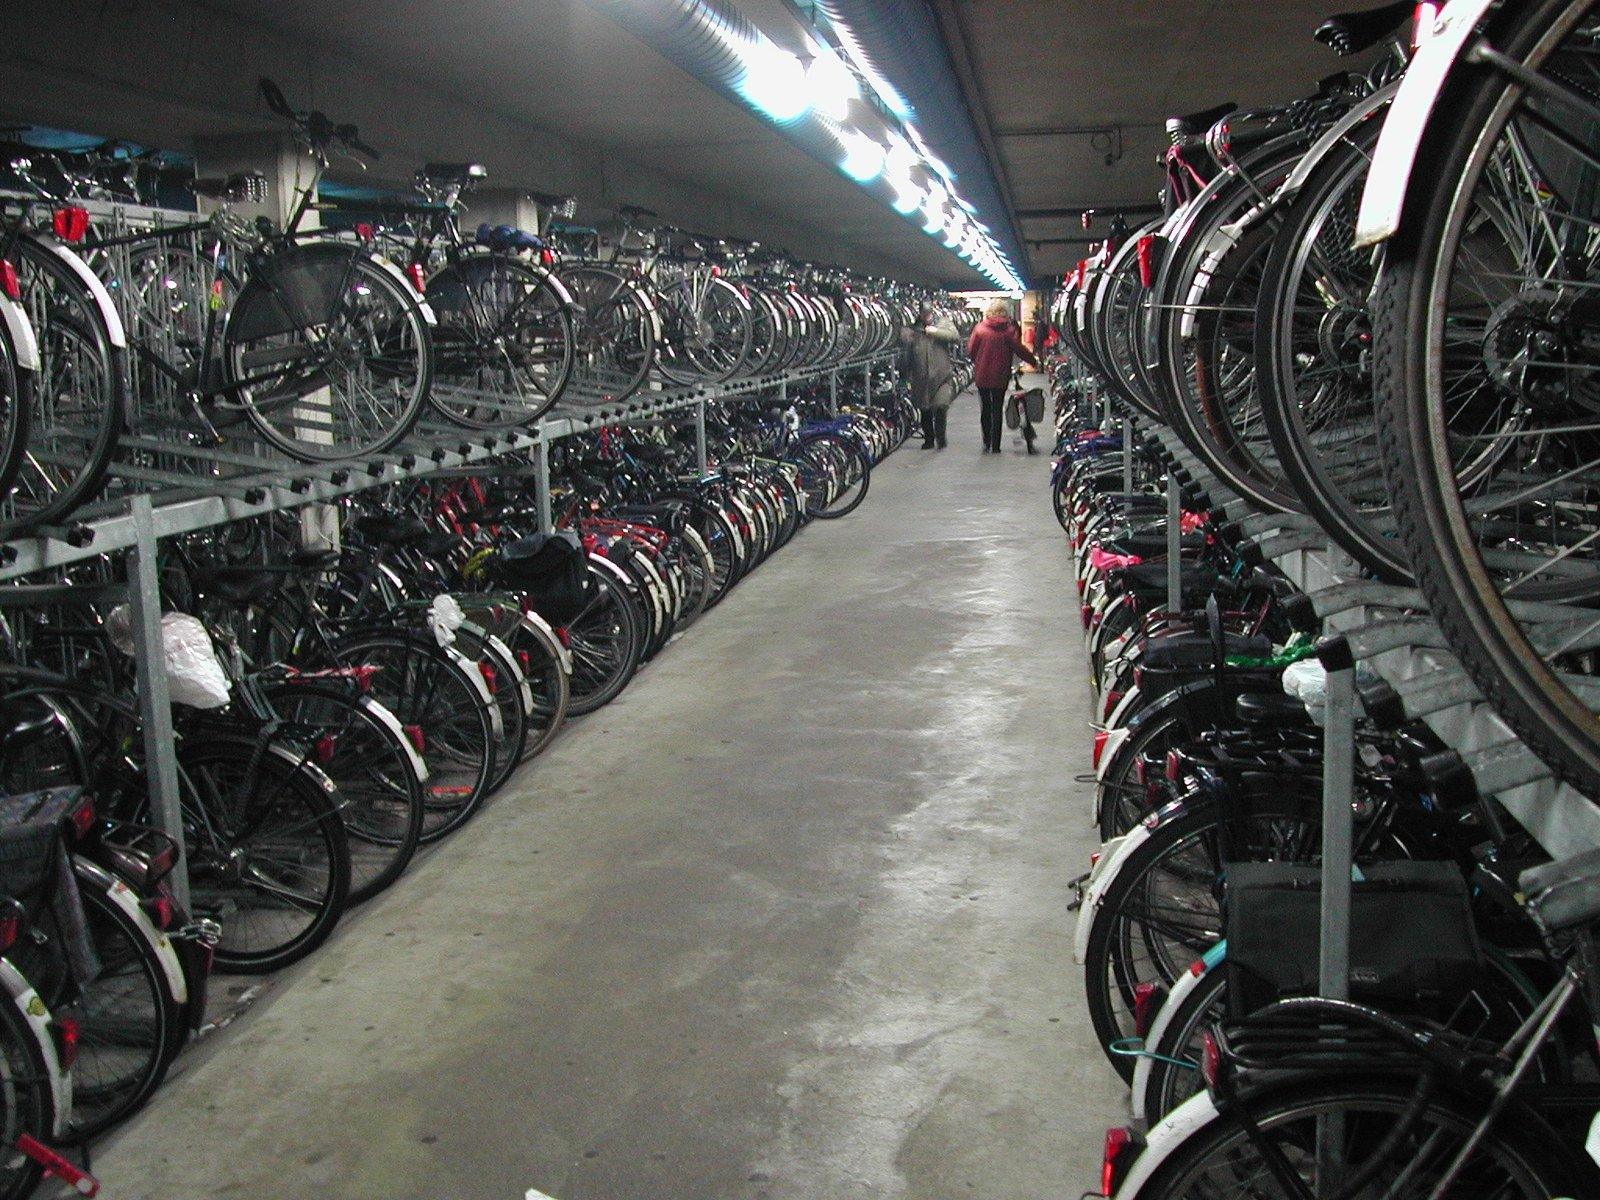Bicycle: (13, 1, 1599, 1192)
